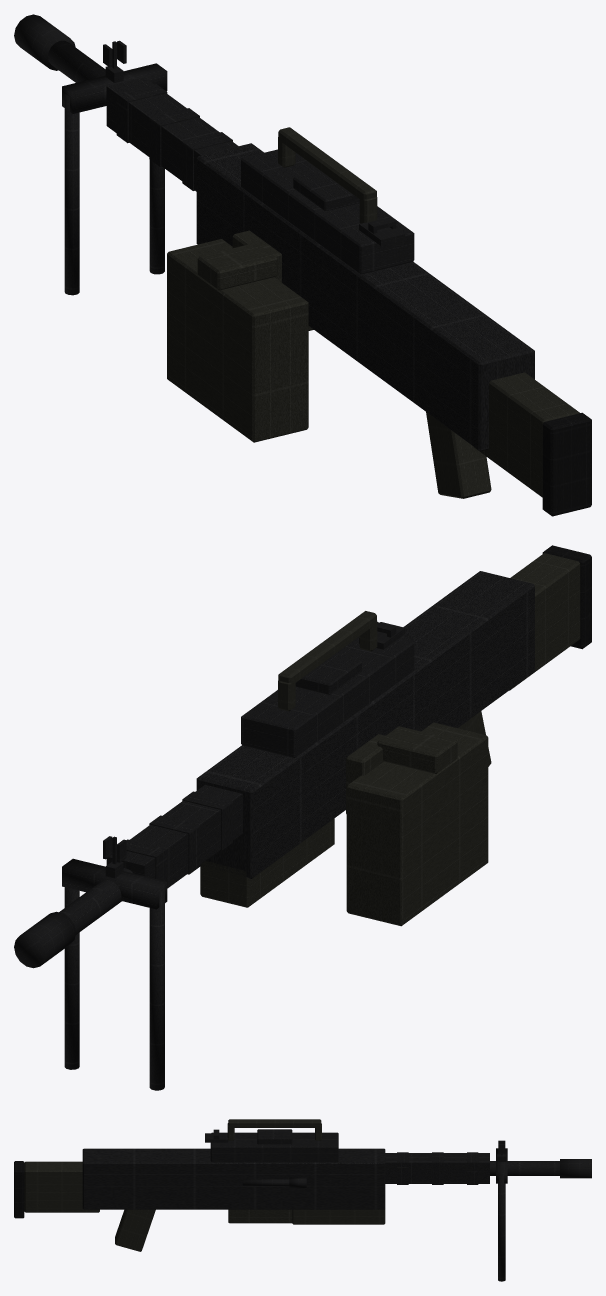
File: lmg.glb
3 renders of one model, top to bottom at view 1: azimuth 30°, elevation 25°; view 2: azimuth 150°, elevation 25°; view 3: azimuth 270°, elevation 25°, orthographic. The views are drawn at different scales.
Visible parts, largest first — view 1: lmg_receiver, lmg_ammo_box, lmg_feed_cover, lmg_heat_shield, lmg_bipod, lmg_stock, lmg_buttpad, lmg_grip, lmg_carry_handle, lmg_sights, lmg_muzzle, lmg_barrel; view 2: lmg_receiver, lmg_ammo_box, lmg_feed_cover, lmg_bipod, lmg_heat_shield, lmg_stock, lmg_lower_guard, lmg_carry_handle, lmg_muzzle, lmg_barrel, lmg_buttpad, lmg_sights; view 3: lmg_receiver, lmg_feed_cover, lmg_heat_shield, lmg_stock, lmg_lower_guard, lmg_grip, lmg_bipod, lmg_carry_handle, lmg_ammo_box, lmg_barrel, lmg_muzzle, lmg_buttpad (+2 smaller).
Part boxes in pixels (x1,y1,x2,y2): lmg_receiver: [196, 143, 534, 451]; lmg_ammo_box: [167, 230, 308, 442]; lmg_feed_cover: [241, 149, 414, 274]; lmg_heat_shield: [106, 77, 238, 191]; lmg_bipod: [62, 63, 167, 295]; lmg_stock: [474, 372, 579, 497]; lmg_buttpad: [542, 412, 591, 516]; lmg_grip: [426, 412, 491, 498]; lmg_carry_handle: [278, 127, 377, 223]; lmg_sights: [103, 40, 405, 245]; lmg_muzzle: [14, 14, 75, 70]; lmg_barrel: [48, 40, 105, 82]; lmg_receiver: [196, 571, 534, 878]; lmg_ammo_box: [346, 722, 488, 926]; lmg_feed_cover: [241, 636, 414, 757]; lmg_bipod: [62, 858, 167, 1090]; lmg_heat_shield: [106, 784, 242, 888]; lmg_stock: [509, 553, 580, 690]; lmg_lower_guard: [200, 818, 334, 907]; lmg_carry_handle: [278, 611, 377, 711]; lmg_muzzle: [14, 911, 75, 968]; lmg_barrel: [59, 868, 132, 934]; lmg_buttpad: [542, 545, 591, 649]; lmg_sights: [103, 622, 405, 878]; lmg_receiver: [82, 1148, 385, 1209]; lmg_feed_cover: [210, 1129, 338, 1162]; lmg_heat_shield: [385, 1152, 489, 1184]; lmg_stock: [24, 1161, 99, 1212]; lmg_lower_guard: [292, 1209, 385, 1224]; lmg_grip: [115, 1209, 155, 1251]; lmg_bipod: [496, 1148, 507, 1281]; lmg_carry_handle: [227, 1119, 321, 1140]; lmg_ammo_box: [228, 1209, 292, 1223]; lmg_barrel: [490, 1161, 559, 1175]; lmg_muzzle: [560, 1159, 591, 1178]; lmg_buttpad: [14, 1161, 24, 1218].
Bounding box in the file's own units: 0.179 × 0.281 × 0.993.
3 materials, 3 textured.
